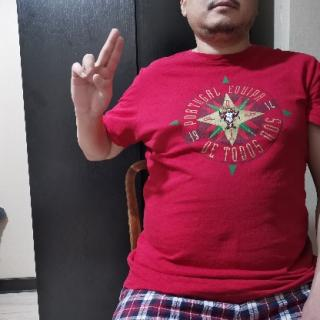TA: (68, 28, 128, 117)
